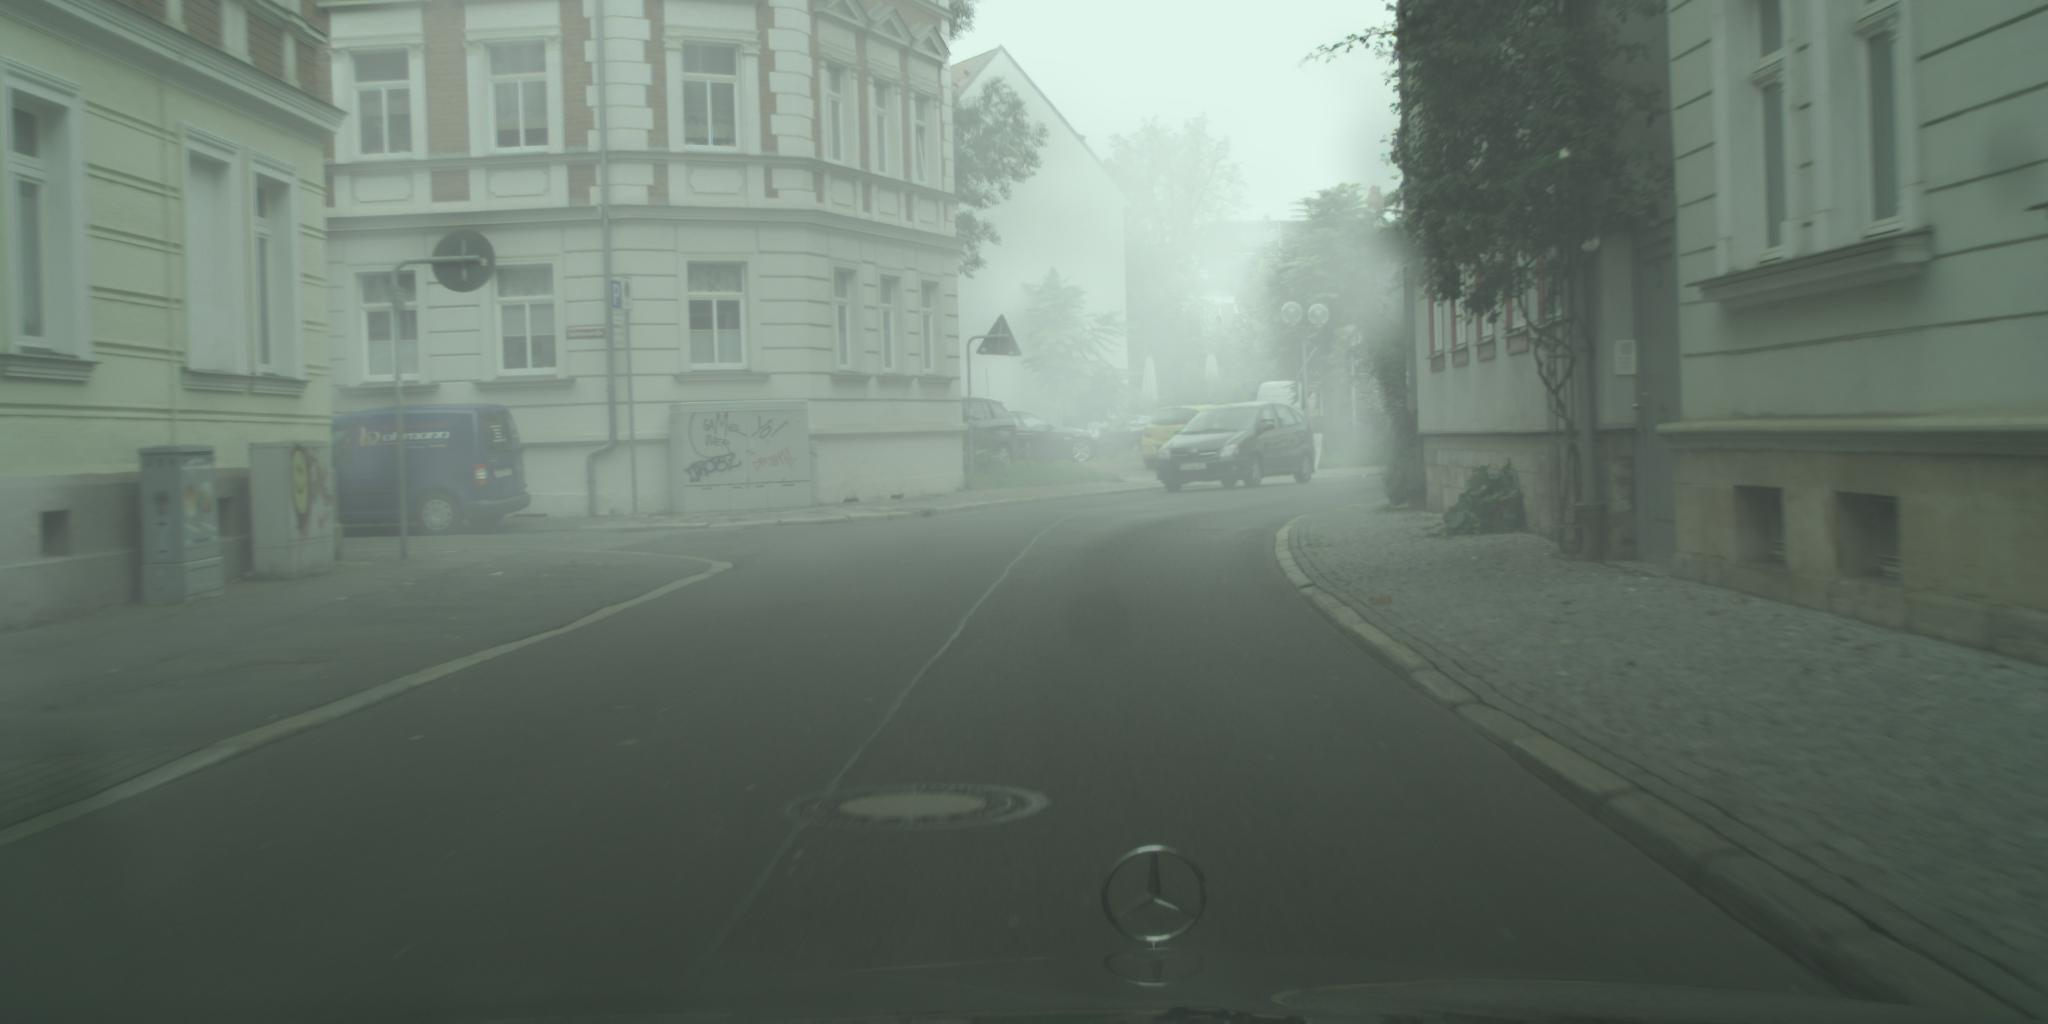car: (328, 405, 532, 536), (1156, 402, 1317, 492), (1143, 406, 1223, 472), (956, 398, 1020, 478), (1007, 411, 1098, 464), (1091, 415, 1157, 468), (1061, 417, 1122, 460), (1256, 381, 1307, 423)
